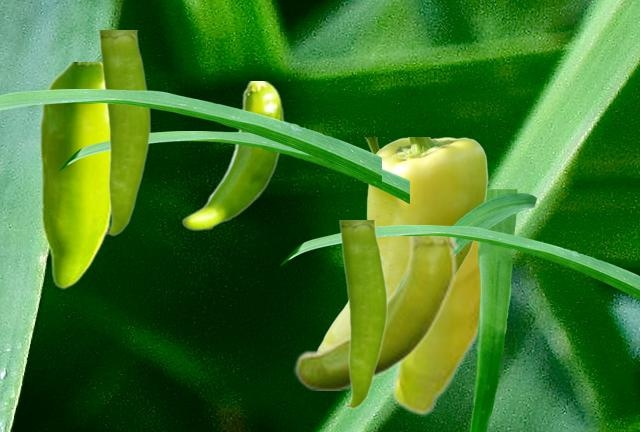green_chili: (317, 137, 487, 349), (293, 236, 458, 389), (39, 62, 109, 288), (181, 81, 284, 230), (391, 242, 479, 415), (97, 30, 149, 235), (338, 220, 386, 408)
